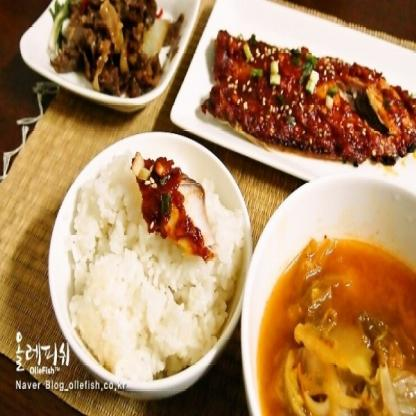Peixe: (208, 19, 416, 168)
